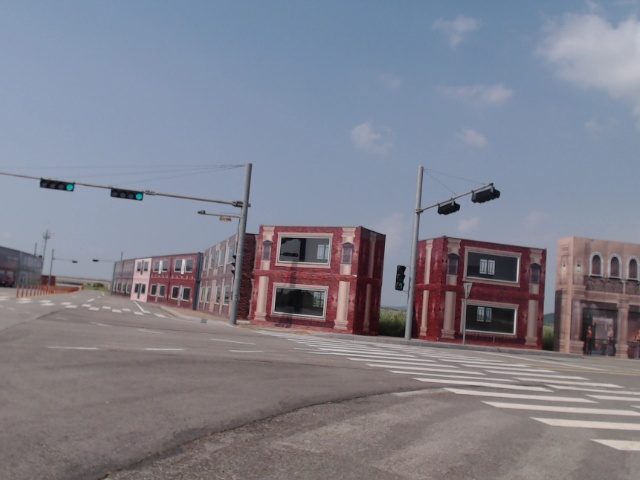straight_green_4: (41, 179, 76, 193), (112, 188, 145, 201)
